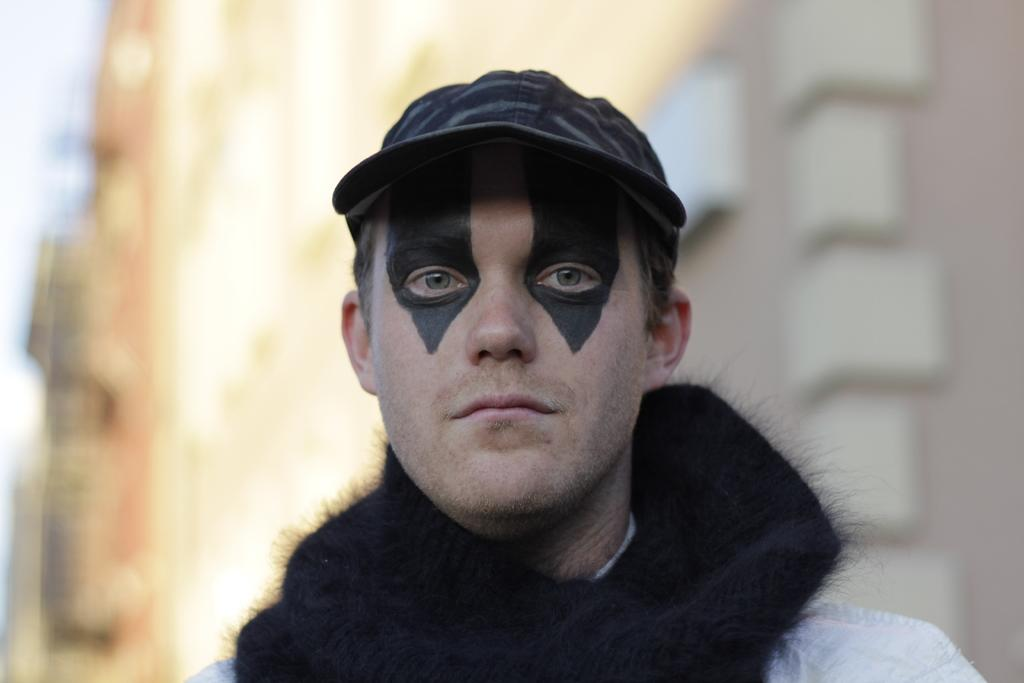Hat: (331, 68, 686, 280)
